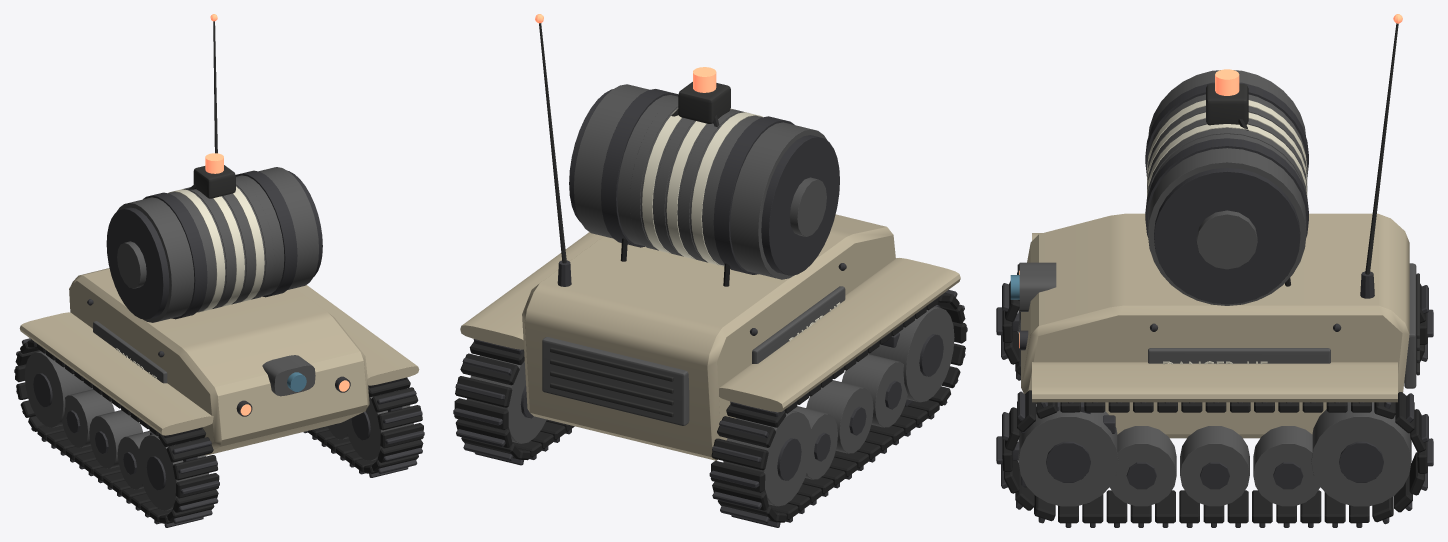
The model's file is robotbomb.glb.
The picture shows the model from 3 angles, left to right: view 1: azimuth 30°, elevation 25°; view 2: azimuth 150°, elevation 25°; view 3: azimuth 270°, elevation 25°; orthographic projection. The views are drawn at different scales.
Visible parts, largest first — view 1: Body; view 2: Body; view 3: Body.
Part boxes in pixels (bbox=[...]): Body: bbox=[14, 14, 424, 527]; Body: bbox=[453, 14, 967, 527]; Body: bbox=[996, 14, 1433, 527].
Size of the model in its own units: 0.6299 by 0.8661 by 0.7161.
